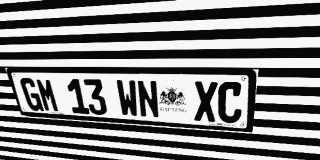1: (65, 79, 90, 114)
3: (83, 79, 108, 115)
C: (217, 82, 244, 124)
G: (19, 78, 44, 111)
M: (35, 78, 60, 112)
N: (136, 80, 160, 119)
W: (115, 80, 140, 117)
X: (194, 81, 218, 122)
